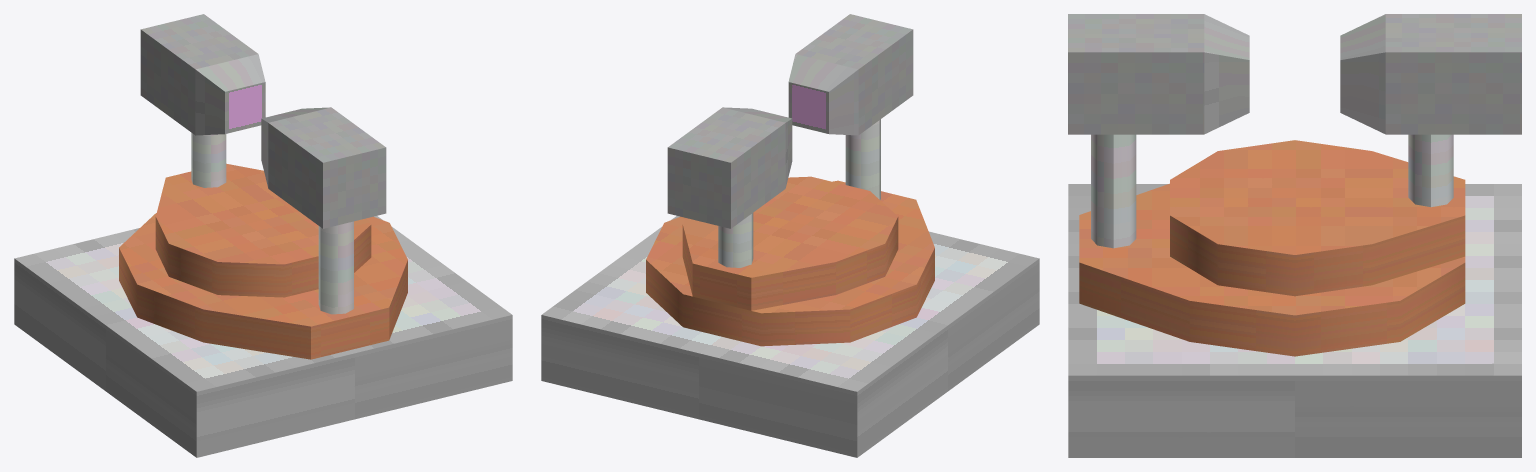
The model's file is analyser.obj.
3 views of the same model, side by side, from view 1: azimuth 30°, elevation 25°; view 2: azimuth 150°, elevation 25°; view 3: azimuth 270°, elevation 25° (orthographic). The views are drawn at different scales.
Visible parts, largest first — view 1: g3, g0, g2_group, g1_group; view 2: g3, g0, g1_group, g2_group; view 3: g3, g0, g1_group, g2_group.
Boxes of the visible parts, left/top/right/bottom form: g3: left=14, top=213, right=512, bottom=457; g0: left=155, top=133, right=371, bottom=297; g2_group: left=261, top=107, right=386, bottom=228; g1_group: left=140, top=14, right=265, bottom=135; g3: left=541, top=119, right=1039, bottom=457; g0: left=682, top=176, right=898, bottom=310; g1_group: left=667, top=107, right=792, bottom=228; g2_group: left=788, top=14, right=913, bottom=135; g3: left=1068, top=134, right=1521, bottom=457; g0: left=1170, top=134, right=1465, bottom=296; g1_group: left=1340, top=14, right=1521, bottom=134; g2_group: left=1068, top=14, right=1249, bottom=134.
Bounding box in the file's own units: 1 × 0.8 × 1.
